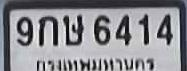1: (138, 13, 148, 44)
4: (156, 13, 172, 44), (115, 14, 130, 45)
6: (93, 14, 109, 44)
9: (16, 16, 32, 45)
A01: (38, 15, 57, 45)
A39: (62, 14, 83, 45)
BKK: (33, 54, 158, 71)
